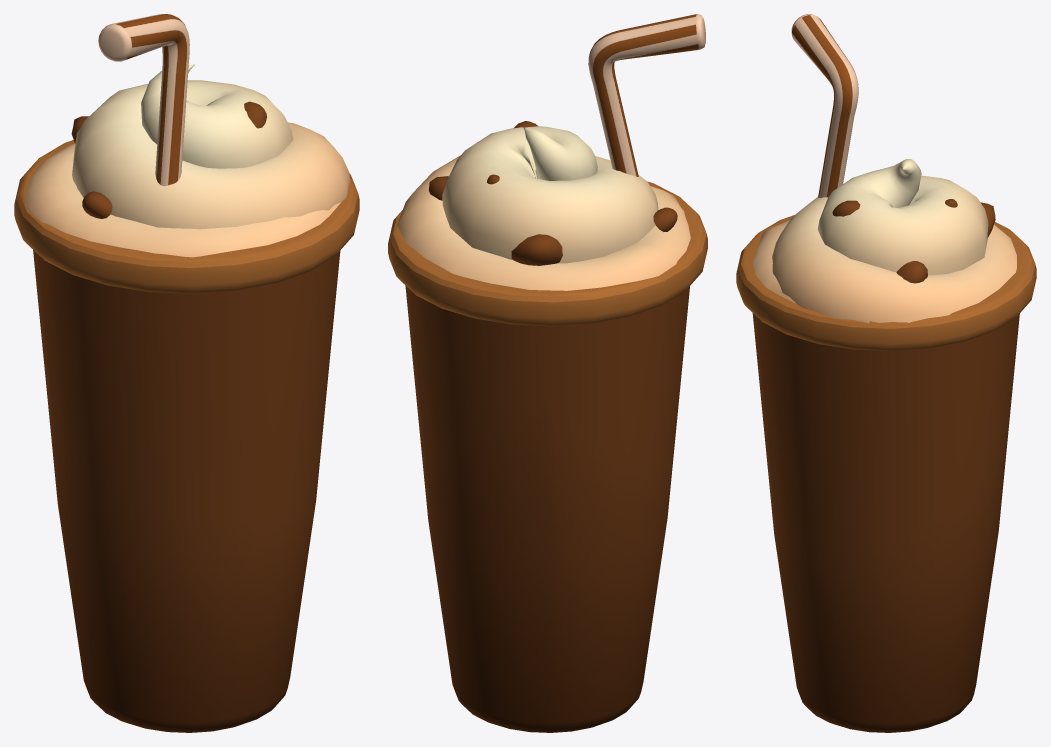
File: SM_ChocolateCoffeMug_01a.fbx
3 renders of one model, left to right at view 1: azimuth 30°, elevation 25°; view 2: azimuth 150°, elevation 25°; view 3: azimuth 270°, elevation 25°, orthographic. The views are drawn at different scales.
Parts seen in each view (by area): view 1: SM_ChocolateCoffeMug_01a; view 2: SM_ChocolateCoffeMug_01a; view 3: SM_ChocolateCoffeMug_01a.
Boxes of the visible parts, x1,y1,x2,y2 form: SM_ChocolateCoffeMug_01a: (14, 14, 359, 732); SM_ChocolateCoffeMug_01a: (388, 14, 707, 732); SM_ChocolateCoffeMug_01a: (736, 14, 1036, 732).
Bounding box in the file's own units: 36.19 × 84.83 × 36.19.
